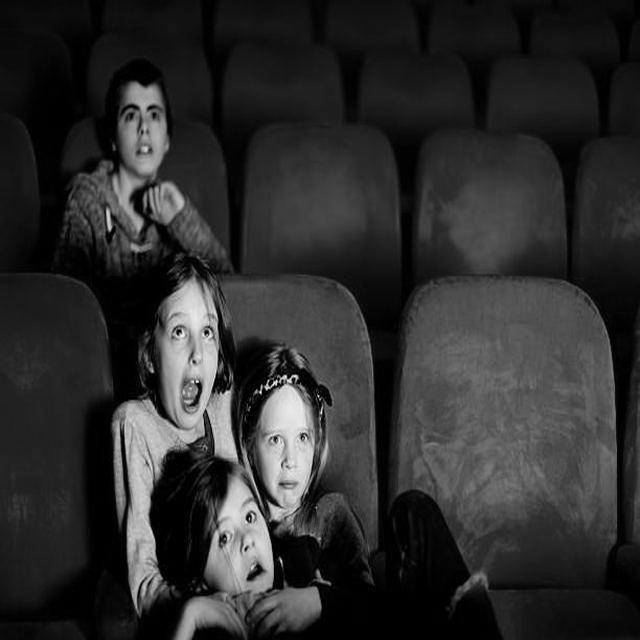Fear: (156, 284, 220, 430), (257, 387, 316, 509)
